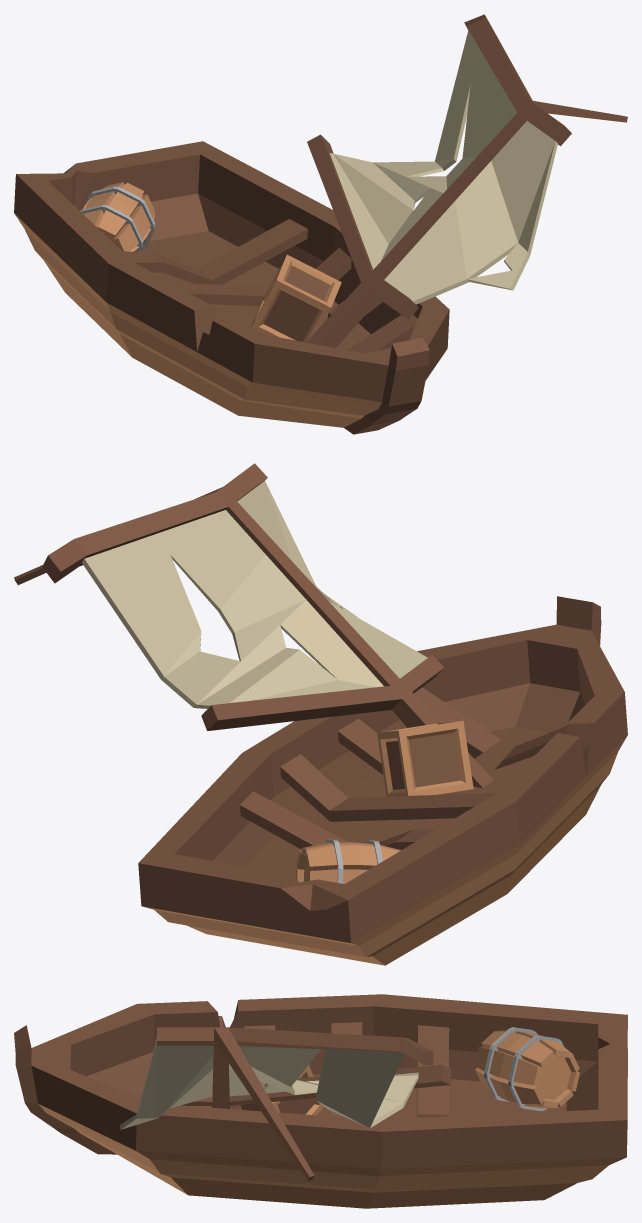
The model's file is barquito.glb.
The picture shows the model from 3 angles, top to bottom: view 1: azimuth 30°, elevation 25°; view 2: azimuth 150°, elevation 25°; view 3: azimuth 270°, elevation 25°; orthographic projection. The views are drawn at different scales.
Parts seen in each view (by area): view 1: barco; view 2: barco; view 3: barco.
Part boxes in pixels (x1,y1,x2,y2): barco: (14, 14, 627, 434); barco: (14, 463, 627, 965); barco: (14, 994, 627, 1208).
Bounding box in the file's own units: 0.7996 × 0.3984 × 0.8648.
